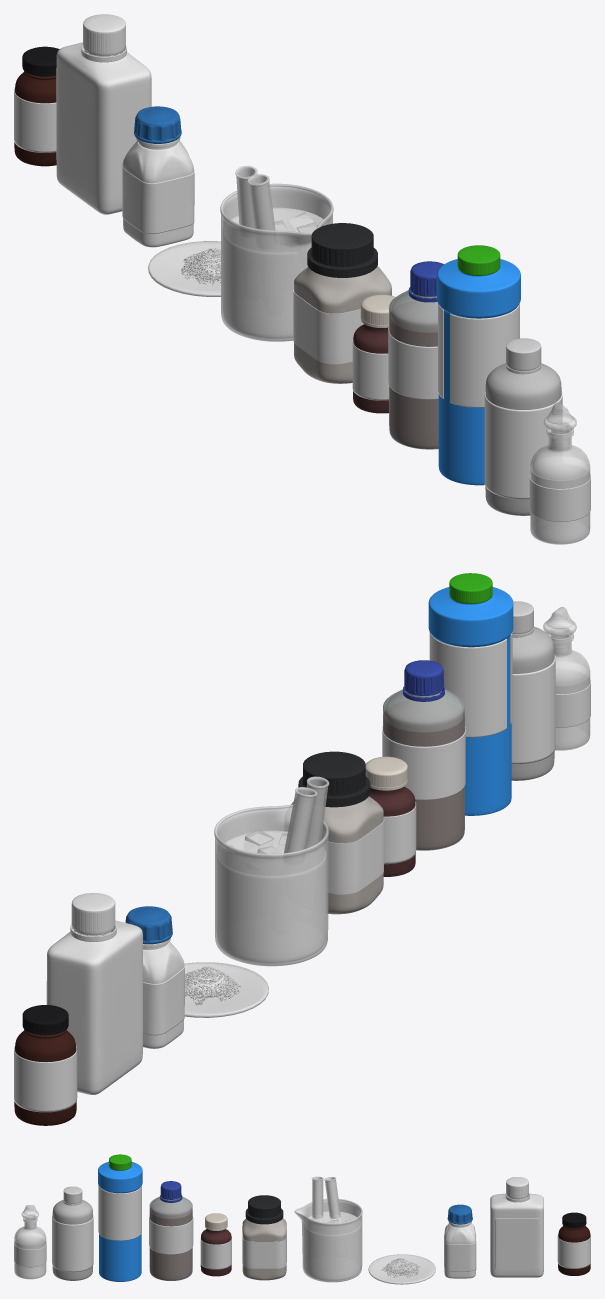
File: bottle Only.fbx
The picture shows the model from 3 angles, top to bottom: view 1: azimuth 30°, elevation 25°; view 2: azimuth 150°, elevation 25°; view 3: azimuth 270°, elevation 25°; orthographic projection. The views are drawn at different scales.
Visible parts, largest first — view 1: Icewater, Cylinder.008, Copper Sulphate btl, NaOH Cover, Copper Sulphate Cover, Ferric Chloride cover.001, Naphtholin Btl, Alcohol Btl, Cylinder.003, NaOH Btl, Cylinder.015, Naphtholin CaP (+19 smaller); view 2: Icewater, Cylinder.008, Copper Sulphate btl, Ferric Chloride cover.001, Copper Sulphate Cover, NaOH Cover, Ferric Chloride cover.002, Ferric Chloride cover, Sodium NitroPrusside Cover.001, Naphtholin Btl, Naphtholin Cover, Naphtholin CaP (+18 smaller); view 3: Icewater, Copper Sulphate btl, Cylinder.004, Ferric Chloride cover.001, Cylinder.008, Copper Sulphate Cover, NaOH Cover, Ferric Chloride cover.002, Naphtholin Btl, Ferric Chloride cover, Hourglass, Naphtholin Cover (+20 smaller).
Boxes of the visible parts, <box> form: Icewater: <box>220,165,333,341</box>; Cylinder.008: <box>56,42,151,214</box>; Copper Sulphate btl: <box>437,259,520,485</box>; NaOH Cover: <box>484,390,562,499</box>; Copper Sulphate Cover: <box>438,303,519,407</box>; Ferric Chloride cover.001: <box>389,290,438,449</box>; Naphtholin Btl: <box>294,265,391,383</box>; Alcohol Btl: <box>530,423,590,544</box>; Cylinder.003: <box>122,165,194,233</box>; NaOH Btl: <box>485,363,561,515</box>; Cylinder.015: <box>122,137,193,247</box>; Naphtholin CaP: <box>307,223,377,277</box>; Icewater: <box>214,776,329,966</box>; Cylinder.008: <box>46,920,142,1094</box>; Copper Sulphate btl: <box>428,587,513,815</box>; Ferric Chloride cover.001: <box>383,689,464,850</box>; Copper Sulphate Cover: <box>429,632,512,737</box>; NaOH Cover: <box>511,655,555,764</box>; Ferric Chloride cover.002: <box>383,712,464,849</box>; Ferric Chloride cover: <box>382,726,465,799</box>; Sodium NitroPrusside Cover.001: <box>14,1046,77,1112</box>; Naphtholin Btl: <box>291,796,383,914</box>; Naphtholin Cover: <box>328,818,384,894</box>; Naphtholin CaP: <box>298,751,370,807</box>; Icewater: <box>294,1176,362,1282</box>; Copper Sulphate btl: <box>98,1161,142,1281</box>; Cylinder.004: <box>495,1218,539,1269</box>; Ferric Chloride cover.001: <box>149,1196,192,1280</box>; Cylinder.008: <box>490,1193,543,1277</box>; Copper Sulphate Cover: <box>98,1185,141,1240</box>; NaOH Cover: <box>52,1214,93,1272</box>; Ferric Chloride cover.002: <box>150,1208,192,1280</box>; Naphtholin Btl: <box>242,1218,286,1280</box>; Ferric Chloride cover: <box>149,1216,193,1254</box>; Hourglass: <box>368,1254,435,1284</box>; Naphtholin Cover: <box>242,1229,286,1268</box>.
Bounding box in the file's own units: 240 × 453 × 2047.
